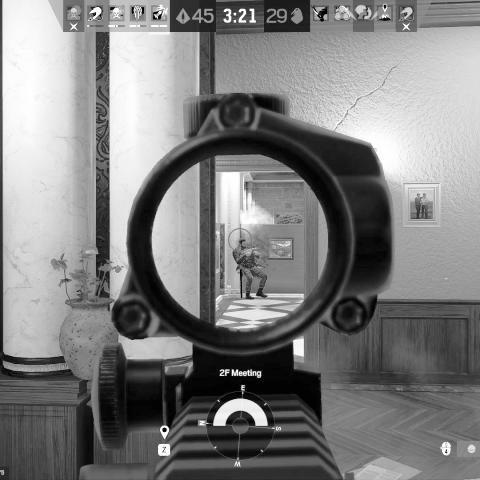Character: (231, 236, 271, 301)
Head: (238, 237, 248, 249)
